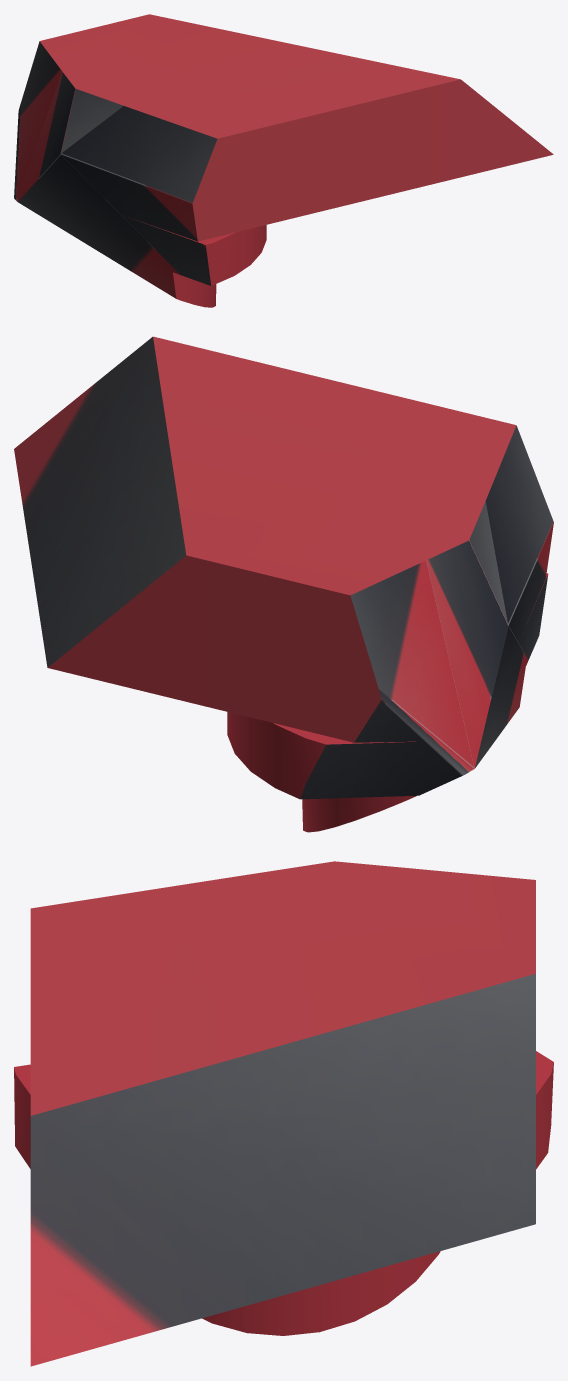
File: torii_broken_010.obj
3 views of the same model, one above another, from view 1: azimuth 30°, elevation 25°; view 2: azimuth 150°, elevation 25°; view 3: azimuth 270°, elevation 25° (orthographic). The views are drawn at different scales.
Visible parts, largest first — view 1: 鳥居.001_cell.010_鳥居.001_cell.005; view 2: 鳥居.001_cell.010_鳥居.001_cell.005; view 3: 鳥居.001_cell.010_鳥居.001_cell.005.
Boxes of the visible parts, x1,y1,x2,y2 form: 鳥居.001_cell.010_鳥居.001_cell.005: (14, 14, 553, 307); 鳥居.001_cell.010_鳥居.001_cell.005: (14, 336, 553, 832); 鳥居.001_cell.010_鳥居.001_cell.005: (14, 861, 553, 1366).
Size of the model in its own units: 0.7271 by 0.3573 by 0.4605.
Materials: 1 (1 with a texture image).
